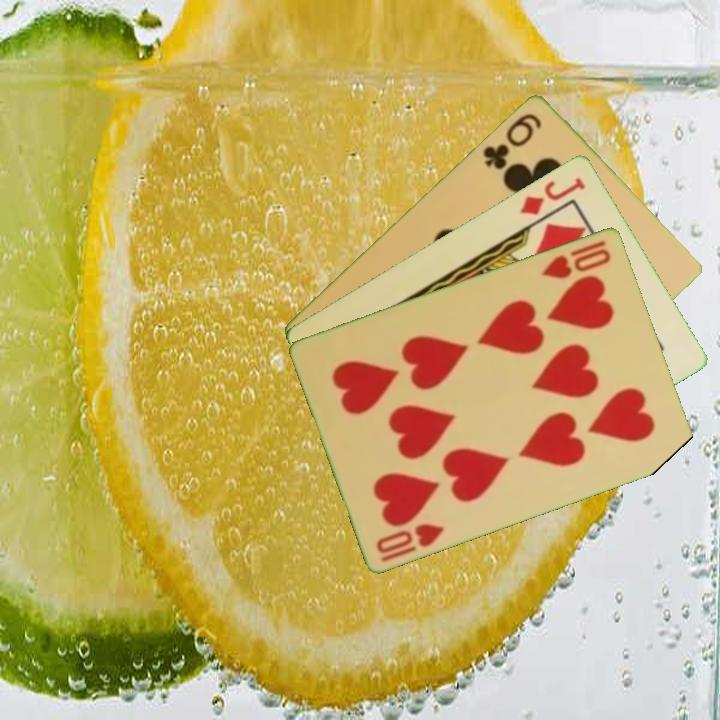10h: (539, 236, 614, 282), (373, 519, 448, 565)
6c: (479, 109, 545, 172)
Jd: (516, 172, 588, 218)
